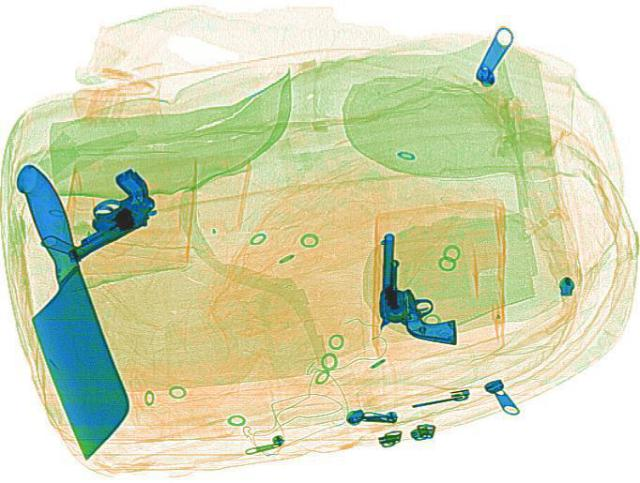Gun: (25, 165, 177, 262), (374, 230, 461, 343)
Knife: (0, 161, 137, 459)
